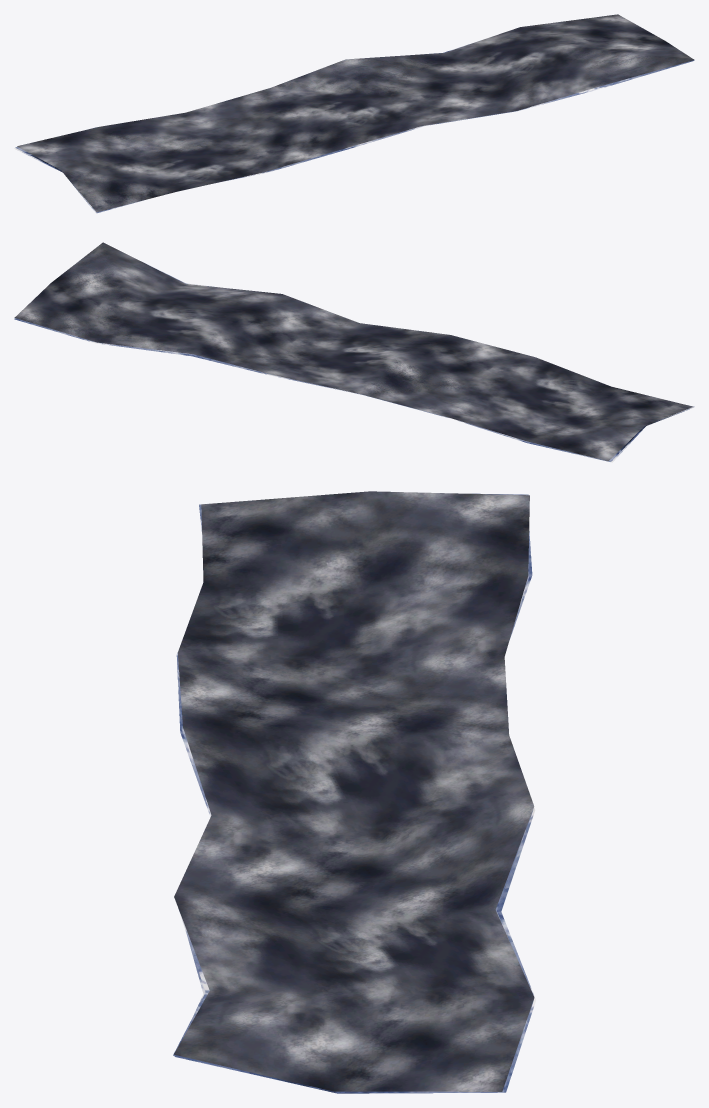
Rendered from LONE_MOUNTAIN_WATERFALLS_ARKENSTONE_WATERWAY01.fbx.
The picture shows the model from 3 angles, top to bottom: view 1: azimuth 30°, elevation 25°; view 2: azimuth 150°, elevation 25°; view 3: azimuth 270°, elevation 25°; orthographic projection. The views are drawn at different scales.
Visible parts, largest first — view 1: LONE_MOUNTAIN_WATERFALLS_ARKENSTONE_WATERWAY01; view 2: LONE_MOUNTAIN_WATERFALLS_ARKENSTONE_WATERWAY01; view 3: LONE_MOUNTAIN_WATERFALLS_ARKENSTONE_WATERWAY01.
Boxes of the visible parts, <box> form: LONE_MOUNTAIN_WATERFALLS_ARKENSTONE_WATERWAY01: <box>14,14,694,213</box>; LONE_MOUNTAIN_WATERFALLS_ARKENSTONE_WATERWAY01: <box>14,242,694,462</box>; LONE_MOUNTAIN_WATERFALLS_ARKENSTONE_WATERWAY01: <box>173,491,535,1093</box>.
Bounding box in the file's own units: 142068 × 3734 × 37018.
2 materials, 2 textured.
